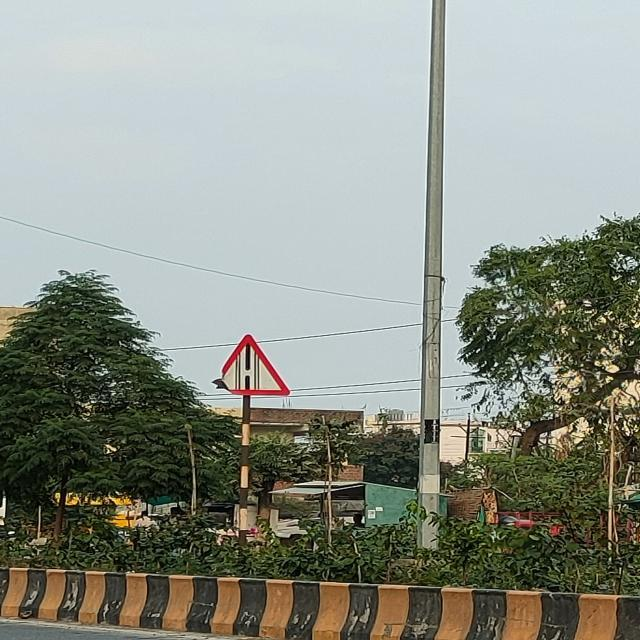gap in median: (210, 335, 292, 399)
